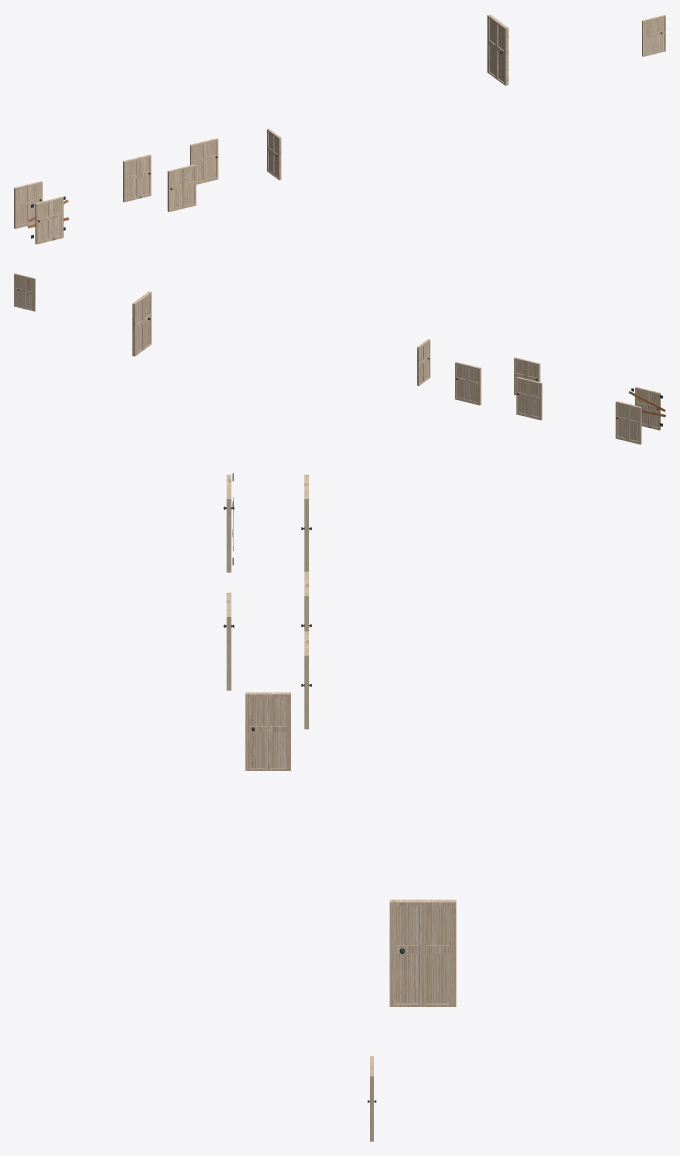
Rendered from wisteria_map_doors.glb.
3 views of the same model, one above another, from view 1: azimuth 30°, elevation 25°; view 2: azimuth 150°, elevation 25°; view 3: azimuth 270°, elevation 25° (orthographic). The views are drawn at different scales.
Parts seen in each view (by area): view 1: HallwayBDoor, BedroomADoor, BathroomBDoor, BedroomBDoor, BathroomADoor, LaundryDoor, DiningDoor, HallwayADoor; view 2: HallwayBDoor, BathroomADoor, BathroomBDoor, LaundryDoor, BedroomBDoor, DiningDoor, BedroomADoor, HallwayADoor; view 3: HallwayBDoor, HallwayADoor.
Part boxes in pixels (box(x1,y1,x2,y2)): HallwayBDoor: box(487, 14, 508, 85); BedroomADoor: box(167, 164, 196, 211); BathroomBDoor: box(123, 154, 151, 202); BedroomBDoor: box(35, 196, 63, 244); BathroomADoor: box(190, 138, 218, 184); LaundryDoor: box(14, 181, 42, 228); DiningDoor: box(642, 15, 665, 56); HallwayADoor: box(267, 128, 281, 180); HallwayBDoor: box(132, 291, 151, 356); BathroomADoor: box(455, 362, 481, 405); BathroomBDoor: box(516, 377, 542, 420); LaundryDoor: box(615, 401, 641, 444); BedroomBDoor: box(635, 387, 660, 430); DiningDoor: box(14, 273, 35, 311); BedroomADoor: box(514, 357, 540, 395); HallwayADoor: box(417, 339, 430, 385); HallwayBDoor: box(389, 899, 456, 1006); HallwayADoor: box(245, 692, 290, 770).
Size of the model in its own units: 88.36 by 7.26 by 14.42.
4 materials, 2 textured.
